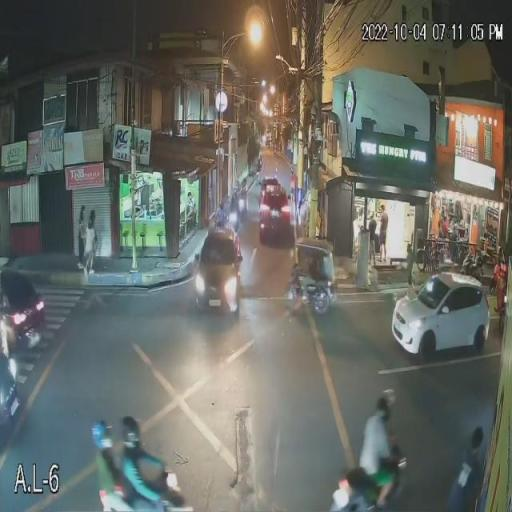helmet: (122, 414, 142, 450), (376, 391, 400, 416), (92, 424, 112, 451)
motorcycle: (336, 445, 407, 512), (100, 473, 182, 512), (231, 208, 239, 228), (242, 195, 246, 213)
rider: (358, 388, 400, 478), (89, 420, 117, 498), (122, 413, 140, 491), (236, 174, 250, 196), (230, 189, 238, 209)
